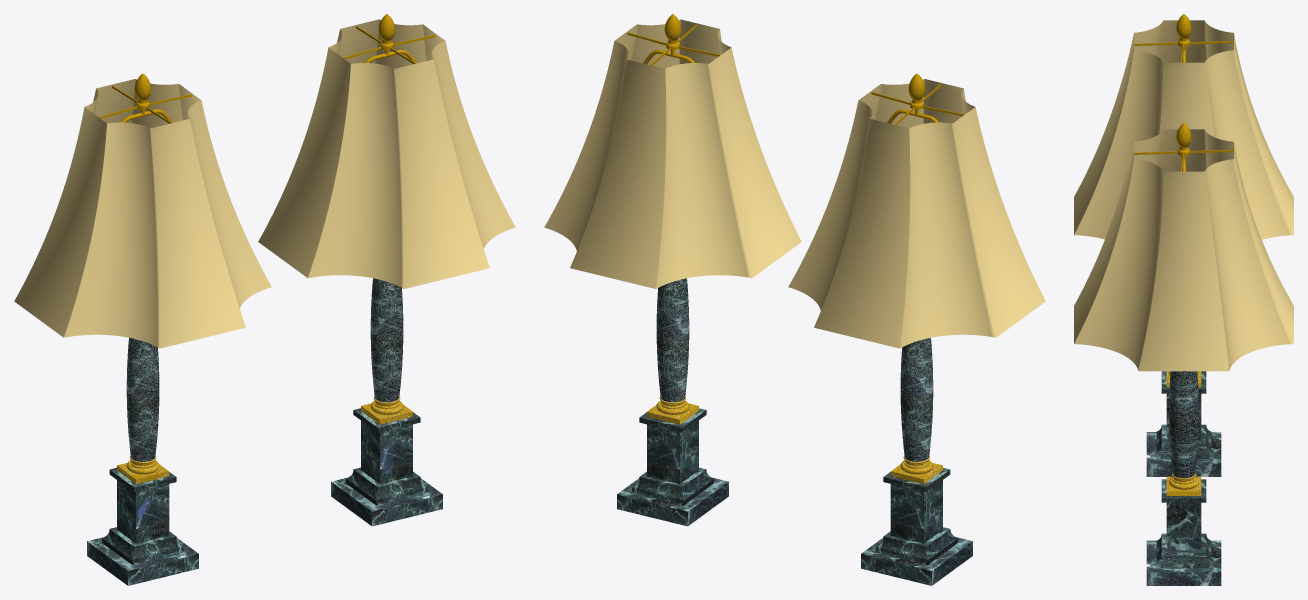
Rendered from coffeLamps.dae.
The picture shows the model from 3 angles, left to right: view 1: azimuth 30°, elevation 25°; view 2: azimuth 150°, elevation 25°; view 3: azimuth 270°, elevation 25°; orthographic projection. The views are drawn at different scales.
Parts seen in each view (by area): view 1: lampshade (×2), marble_base (×6), shaft (×2); view 2: lampshade (×2), marble_base (×6), shaft (×2); view 3: lampshade (×4), marble_base (×8), shaft, finial (×2).
Part boxes in pixels (<box>): lampshade (×2): <box>14,19,515,348</box>; marble_base (×6): <box>87,420,442,585</box>; shaft (×2): <box>126,278,403,461</box>; lampshade (×2): <box>544,19,1045,348</box>; marble_base (×6): <box>617,420,972,585</box>; shaft (×2): <box>656,278,933,461</box>; lampshade (×4): <box>1074,20,1293,371</box>; marble_base (×8): <box>1146,371,1221,585</box>; shaft: <box>1169,371,1198,478</box>; finial (×2): <box>1176,14,1191,153</box>.
Bounding box in the file's own units: 23.9 × 11 × 24.69.
